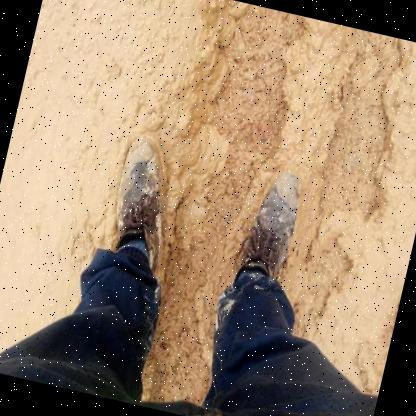bota: (100, 127, 194, 276), (227, 160, 316, 302)
